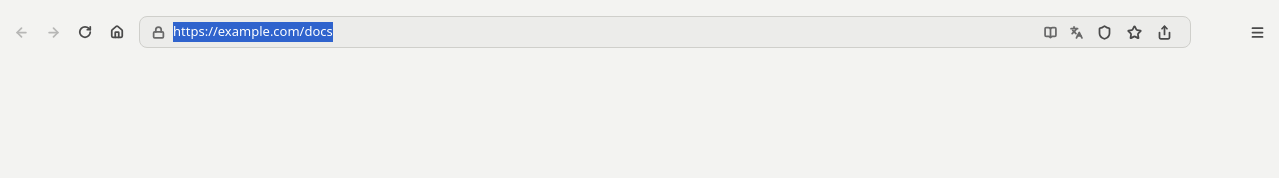
Scenario: address bar suggestions › closes when the input loses focus
Replace the text in the dropdown named "address" with "learn" at (600, 32), box [173,22,1026,42]
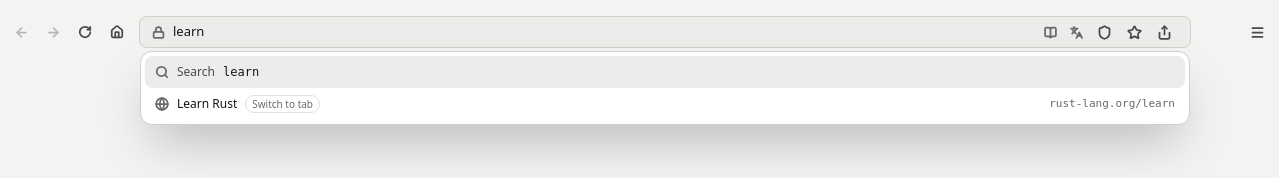
expect the list is shown: met, box [140,51,1190,125]
Leave the dropdown named "address", box [173,22,1026,42]
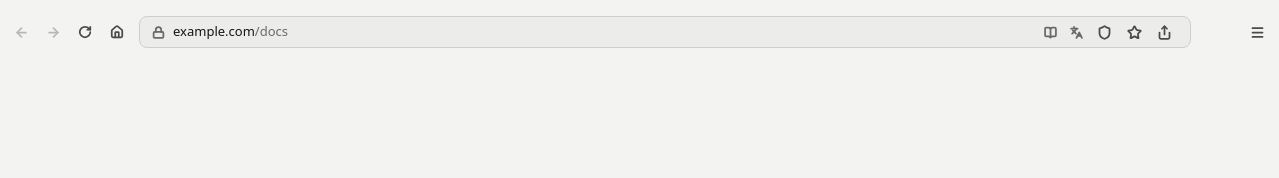
expect the list is gone: met
